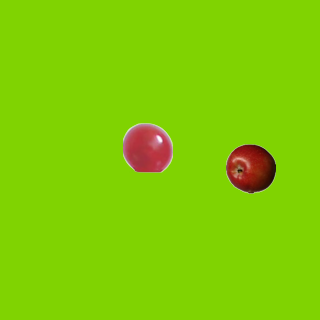Apple Braeburn: (225, 143, 275, 193)
Redcurrant: (122, 122, 172, 172)
